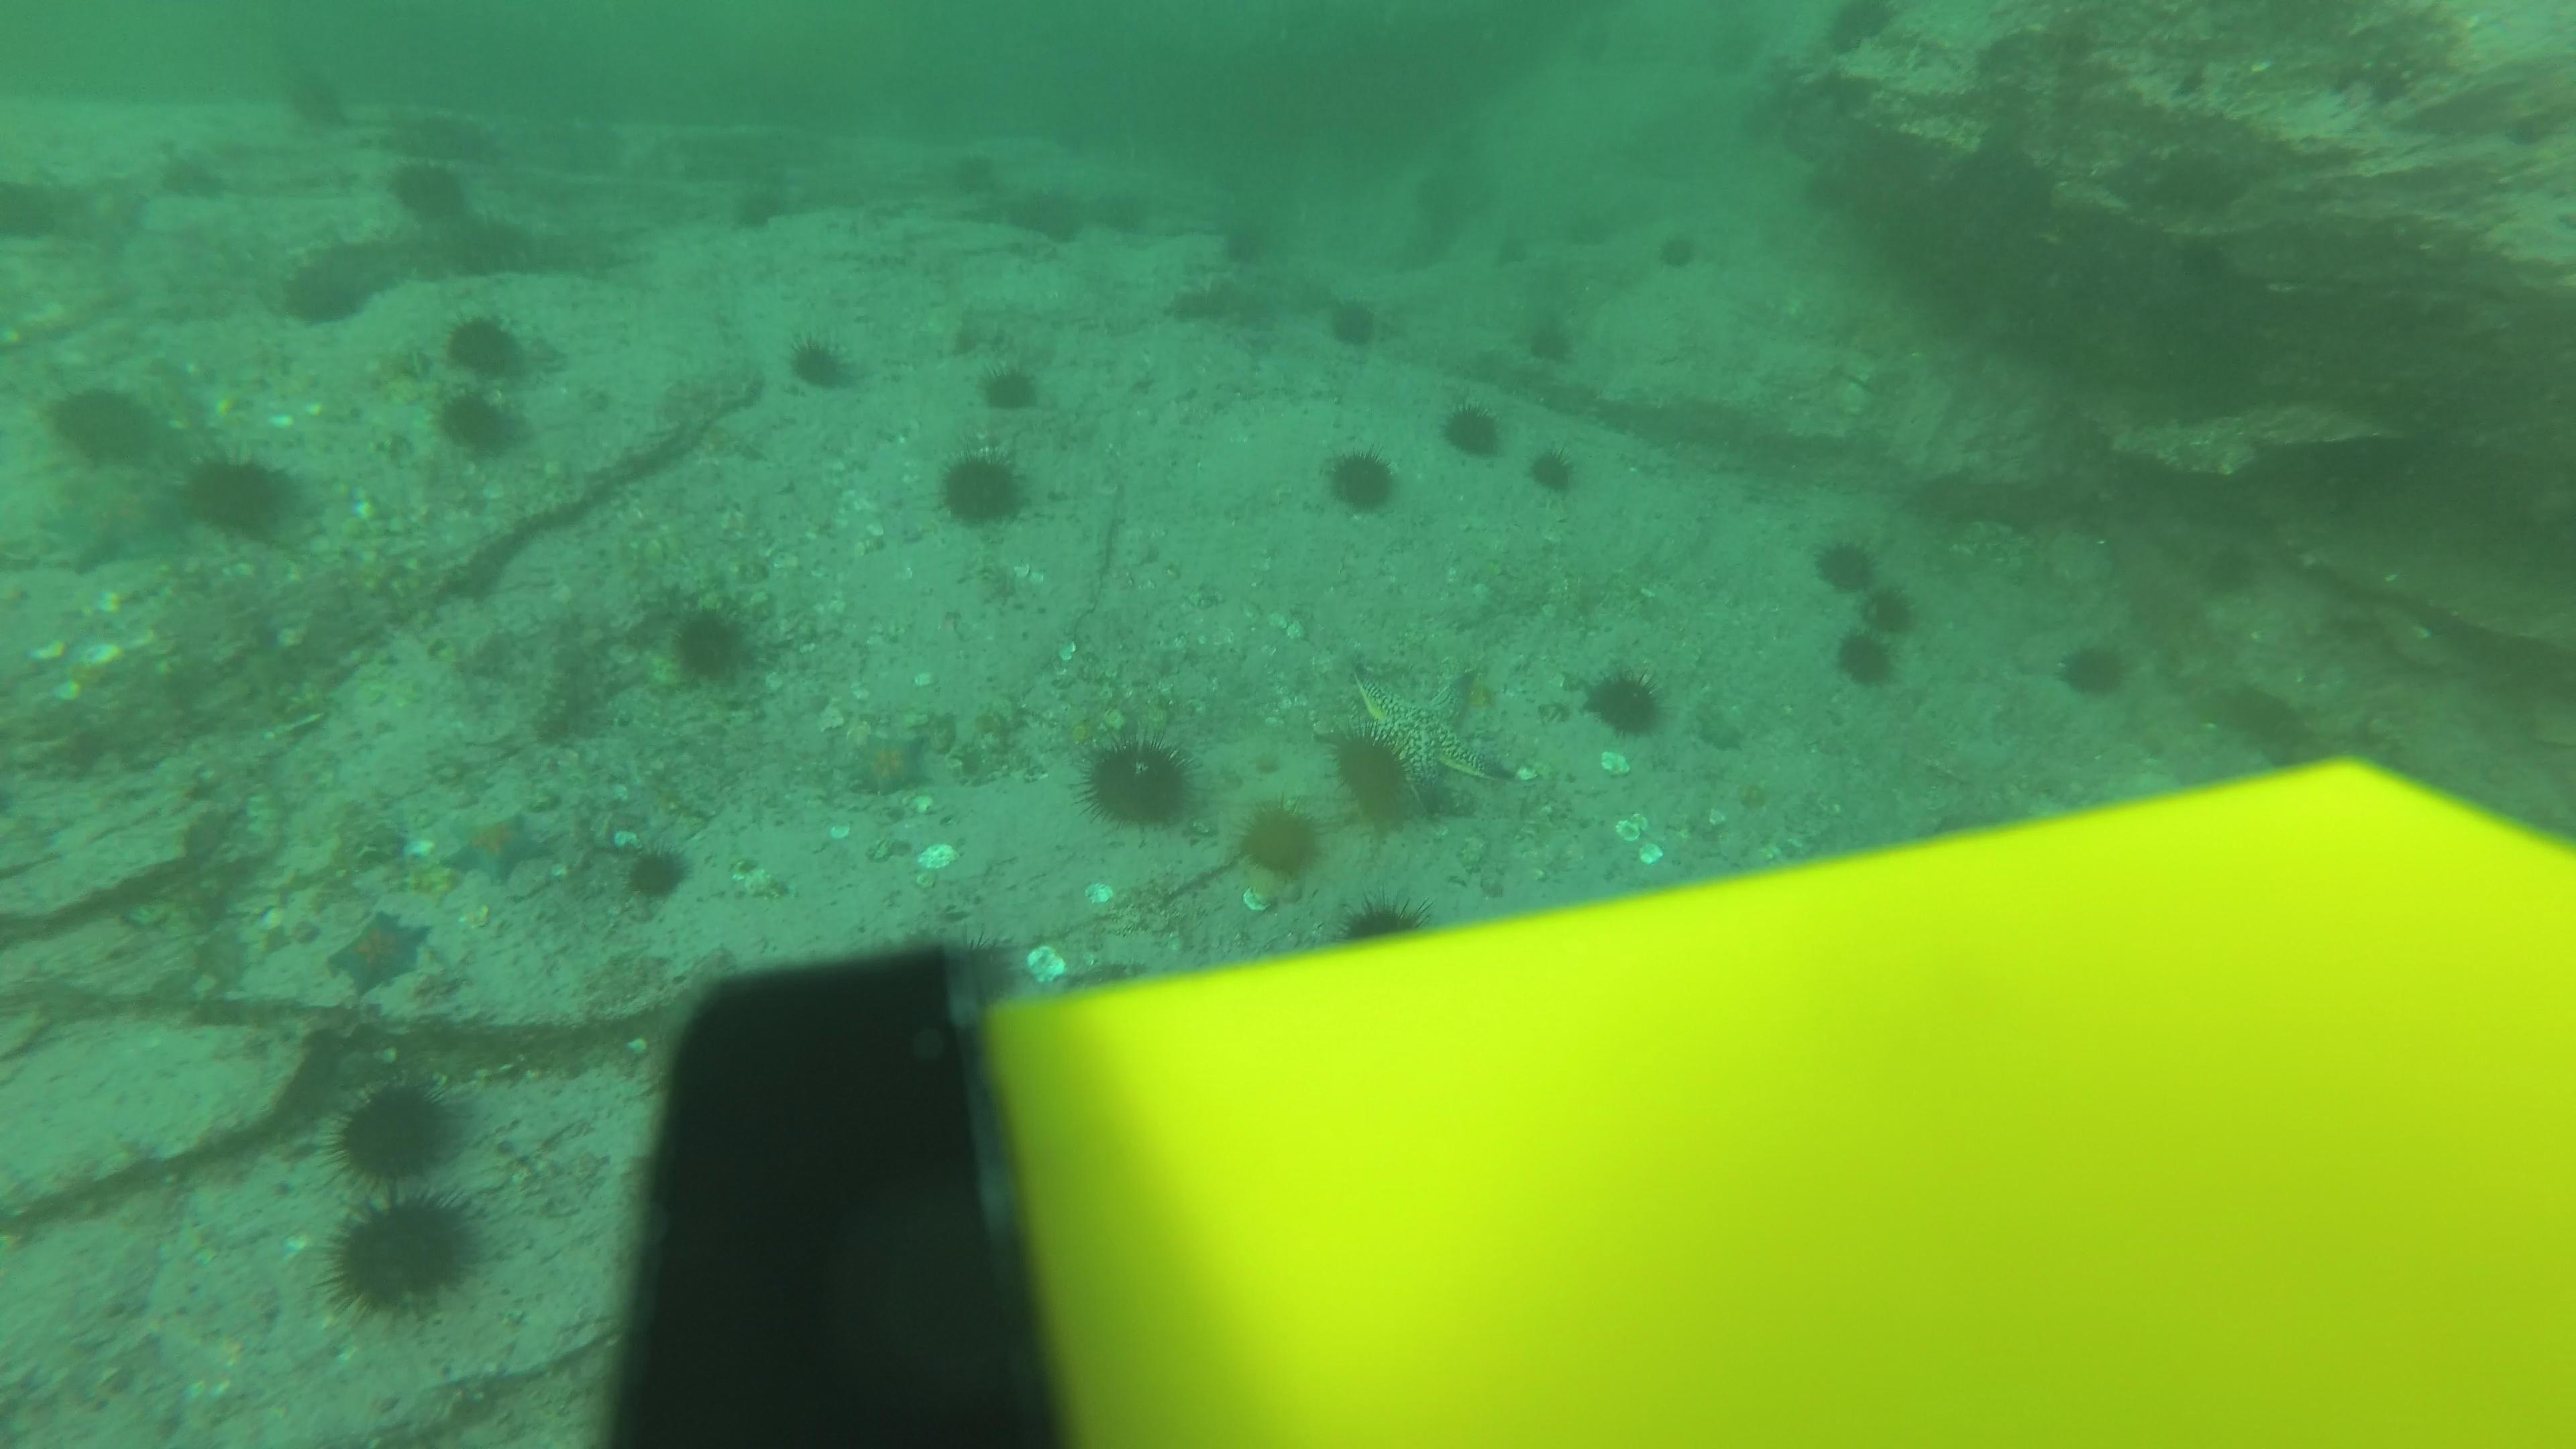echinus: (318, 1185, 485, 1322), (326, 1076, 464, 1189), (1076, 727, 1201, 835), (1323, 718, 1438, 830), (177, 446, 306, 545), (42, 377, 165, 471), (658, 594, 766, 692), (934, 446, 1033, 533), (1231, 796, 1327, 885), (1576, 660, 1674, 743), (437, 306, 538, 386), (276, 248, 372, 331), (432, 384, 529, 464), (384, 152, 476, 228), (1332, 888, 1435, 952), (1320, 441, 1401, 517), (276, 62, 357, 134), (2052, 632, 2135, 702), (616, 837, 695, 909), (1008, 180, 1092, 248), (1513, 317, 1594, 384), (1083, 172, 1164, 239), (1831, 619, 1907, 690), (1854, 582, 1936, 648), (2174, 536, 2256, 602), (1799, 531, 1879, 596), (784, 329, 858, 396), (1817, 0, 1902, 58), (1438, 398, 1507, 464), (724, 175, 794, 237), (1210, 209, 1281, 271), (975, 356, 1046, 416), (1322, 290, 1387, 354), (1564, 207, 1628, 260), (1553, 12, 1617, 65), (1684, 23, 1748, 76), (1732, 94, 1796, 147), (1525, 441, 1582, 499), (1649, 228, 1713, 280)
starfish: (1341, 658, 1502, 814), (39, 464, 195, 575), (426, 801, 557, 886), (320, 906, 435, 994), (837, 720, 941, 801)
